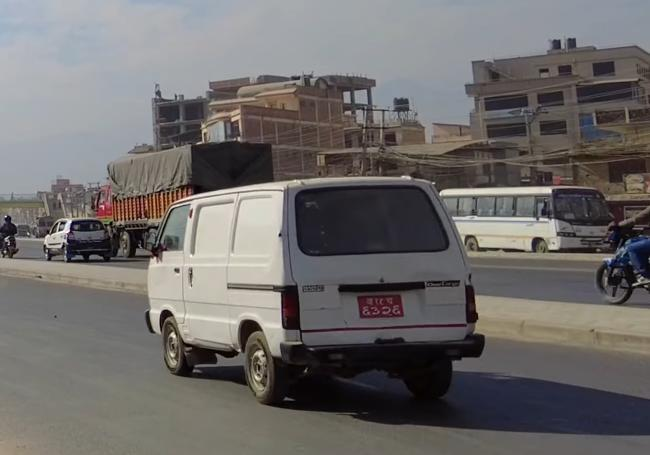bike: (594, 215, 650, 309)
bus: (438, 184, 622, 255)
taxi: (38, 213, 115, 266)
truck: (90, 135, 275, 245)
van: (141, 164, 484, 404)
